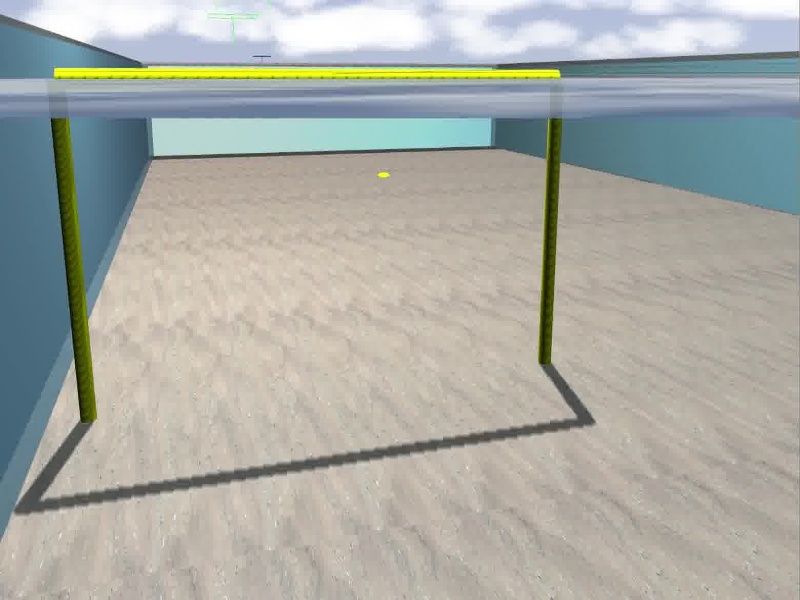gate: (51, 67, 562, 423)
